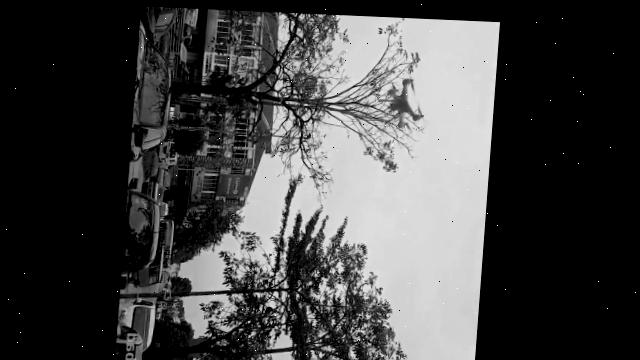drone: (377, 70, 429, 132)
